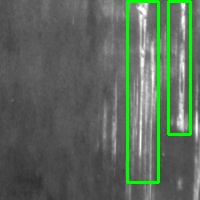scratches: (127, 1, 158, 182), (168, 1, 190, 134)
